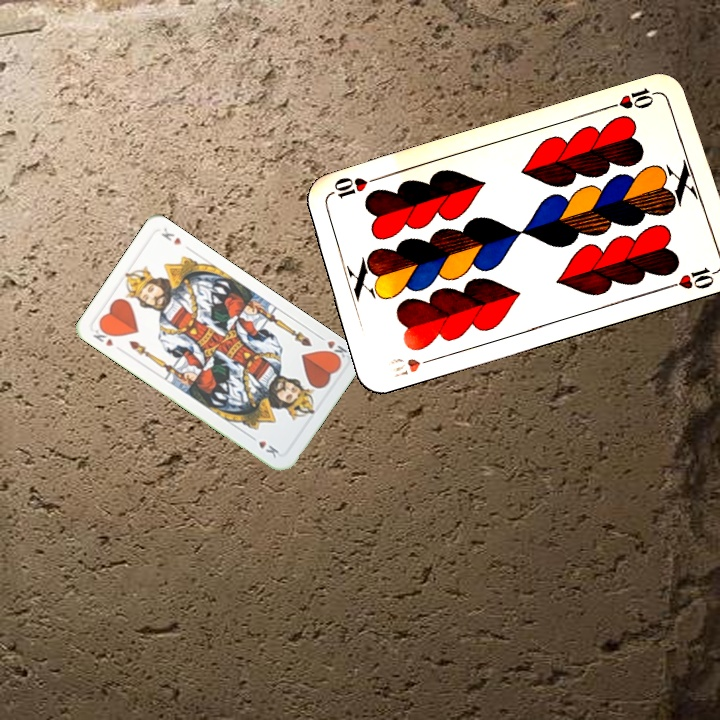H10: (604, 84, 662, 112), (383, 353, 440, 381)
HK: (314, 331, 350, 364), (89, 322, 117, 349)
